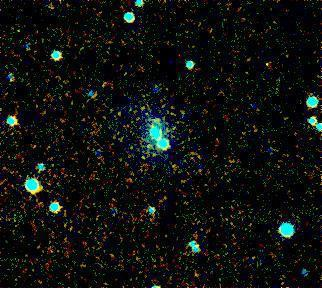star: (141, 106, 171, 136)
